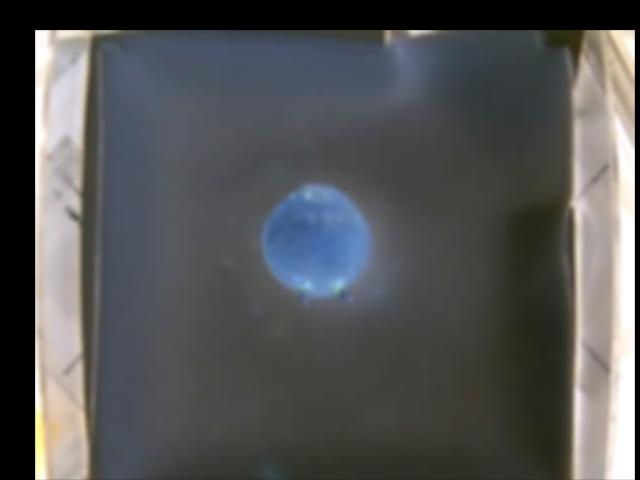Potato: (262, 183, 369, 303)
